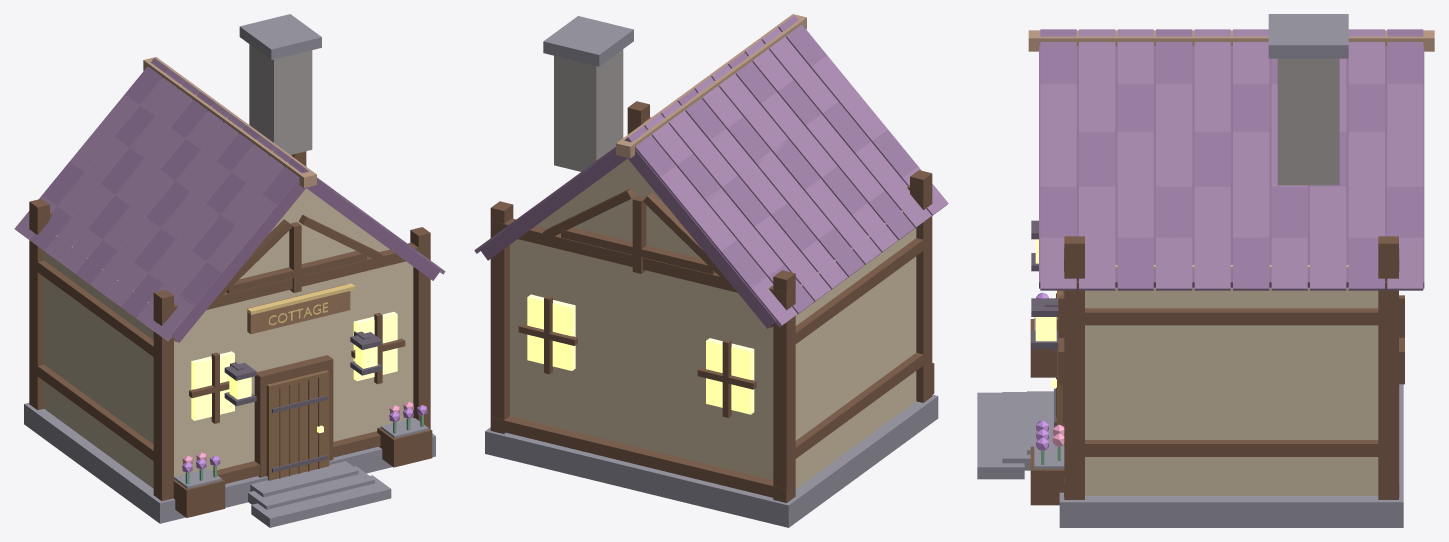
The model's file is fantasy_cottage_v2.glb.
3 views of the same model, side by side, from view 1: azimuth 30°, elevation 25°; view 2: azimuth 150°, elevation 25°; view 3: azimuth 270°, elevation 25° (orthographic). The views are drawn at different scales.
Parts seen in each view (by area): view 1: plaster walls, foundation, chimney, door, plaster gables, timber post, timber post.002, timber post.001, door frame, stone entry step.002, chimney cap, timber beam.002 (+69 smaller); view 2: plaster walls, foundation, chimney, timber beam.001, plaster gables, timber post.001, timber post.003, timber post, chimney cap, timber beam.003, steep roof slope, steep roof slope.001 (+61 smaller); view 3: plaster walls, foundation, chimney, steep roof slope.001, side timber.003, timber post.002, timber post.003, side timber.002, chimney cap, stone entry step.002, decorative roof ridge, individual roof shingle.070 (+49 smaller).
Boxes of the visible parts, left/top/right/bottom form: plaster walls: left=44, top=235, right=413, bottom=488; foundation: left=24, top=403, right=435, bottom=523; chimney: left=249, top=44, right=312, bottom=154; door: left=266, top=370, right=329, bottom=480; plaster gables: left=239, top=188, right=389, bottom=279; timber post: left=153, top=289, right=173, bottom=500; timber post.002: left=410, top=227, right=430, bottom=428; timber post.001: left=29, top=198, right=49, bottom=410; door frame: left=254, top=355, right=333, bottom=477; stone entry step.002: left=251, top=475, right=391, bottom=527; chimney cap: left=239, top=14, right=321, bottom=59; timber beam.002: left=162, top=242, right=430, bottom=320; plaster walls: left=510, top=210, right=916, bottom=488; foundation: left=485, top=394, right=938, bottom=527; chimney: left=554, top=49, right=623, bottom=171; timber beam.001: left=491, top=416, right=786, bottom=500; plaster gables: left=536, top=158, right=701, bottom=258; timber post.001: left=773, top=270, right=795, bottom=502; timber post.003: left=490, top=201, right=513, bottom=433; timber post: left=910, top=170, right=932, bottom=402; chimney cap: left=543, top=16, right=633, bottom=66; timber beam.003: left=491, top=218, right=786, bottom=304; steep roof slope: left=627, top=150, right=776, bottom=328; steep roof slope.001: left=479, top=149, right=627, bottom=260; plaster walls: left=1085, top=265, right=1378, bottom=495; foundation: left=1059, top=384, right=1403, bottom=527; chimney: left=1277, top=58, right=1339, bottom=185; steep roof slope.001: left=1039, top=46, right=1424, bottom=288; side timber.003: left=1067, top=308, right=1395, bottom=325; timber post.002: left=1064, top=236, right=1084, bottom=499; timber post.003: left=1378, top=236, right=1398, bottom=499; side timber.002: left=1067, top=440, right=1392, bottom=456; chimney cap: left=1268, top=14, right=1348, bottom=58; stone entry step.002: left=977, top=392, right=1024, bottom=479; decorative roof ridge: left=1028, top=30, right=1434, bottom=51; individual roof shingle.070: left=1040, top=131, right=1076, bottom=186.
Bounding box in the file's own units: 6.89 × 8.62 × 7.72.
